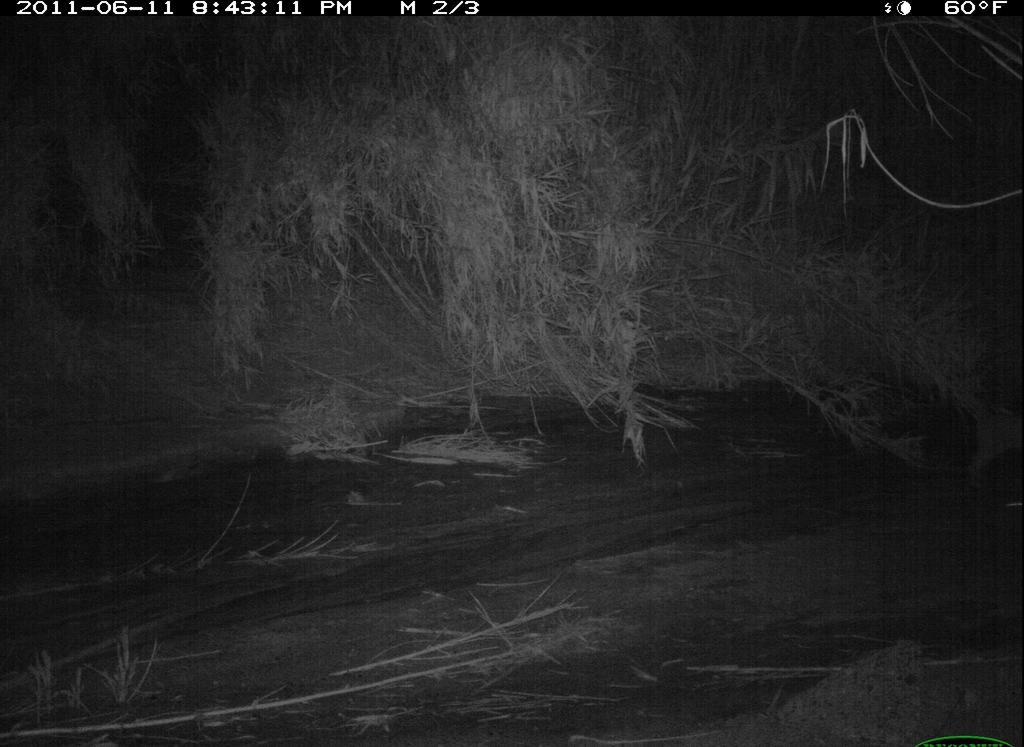bobcat: (958, 389, 1024, 498)
